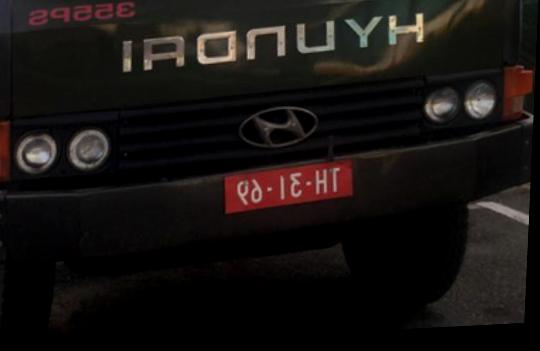License_Plate: (218, 159, 358, 217)
